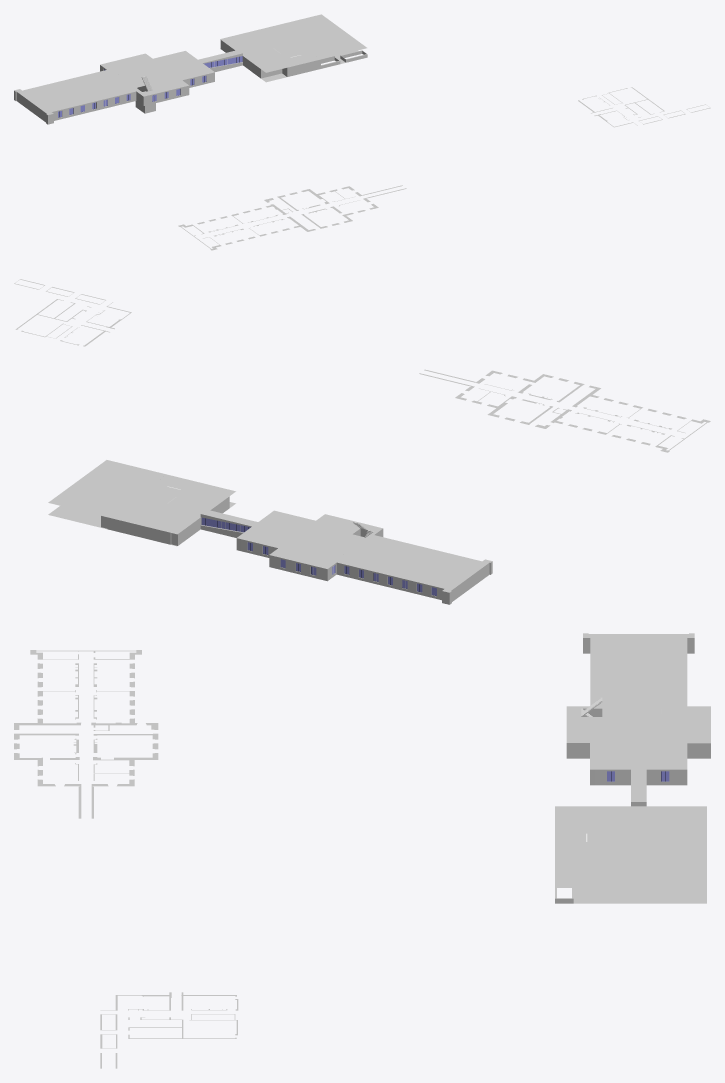
The model's file is A1_Passerelle.fbx.
3 renders of one model, top to bottom at view 1: azimuth 30°, elevation 25°; view 2: azimuth 150°, elevation 25°; view 3: azimuth 270°, elevation 25°, orthographic. The views are drawn at different scales.
Visible parts, largest first — view 1: Plafond A1, Plafond B1, Tracé 3D A1, Tracé 3D B1, Tracé plan A1, Tracés plan B1; view 2: Plafond A1, Plafond B1, Tracé 3D A1, Tracé plan A1, Tracé 3D B1, Tracés plan B1, Sol B1; view 3: Plafond A1, Plafond B1, Tracé 3D A1, Tracé plan A1, Sol B1, Tracés plan B1.
Boxes of the visible parts, bbox=[...] form: Plafond A1: bbox=[15, 51, 213, 114]; Plafond B1: bbox=[220, 14, 366, 72]; Tracé 3D A1: bbox=[14, 51, 214, 124]; Tracé 3D B1: bbox=[209, 25, 367, 78]; Tracé plan A1: bbox=[178, 185, 406, 250]; Tracés plan B1: bbox=[578, 87, 710, 127]; Plafond A1: bbox=[237, 511, 491, 591]; Plafond B1: bbox=[48, 460, 235, 534]; Tracé 3D A1: bbox=[236, 510, 492, 604]; Tracé plan A1: bbox=[419, 369, 710, 452]; Tracé 3D B1: bbox=[101, 474, 243, 545]; Tracés plan B1: bbox=[14, 279, 131, 346]; Sol B1: bbox=[48, 506, 177, 546]; Plafond A1: bbox=[567, 633, 709, 769]; Plafond B1: bbox=[555, 806, 706, 887]; Tracé 3D A1: bbox=[566, 633, 710, 785]; Tracé plan A1: bbox=[14, 650, 158, 818]; Sol B1: bbox=[573, 888, 706, 903]; Tracés plan B1: bbox=[100, 992, 238, 1068].
Bounding box in the file's own units: 17229 × 900 × 12119.
